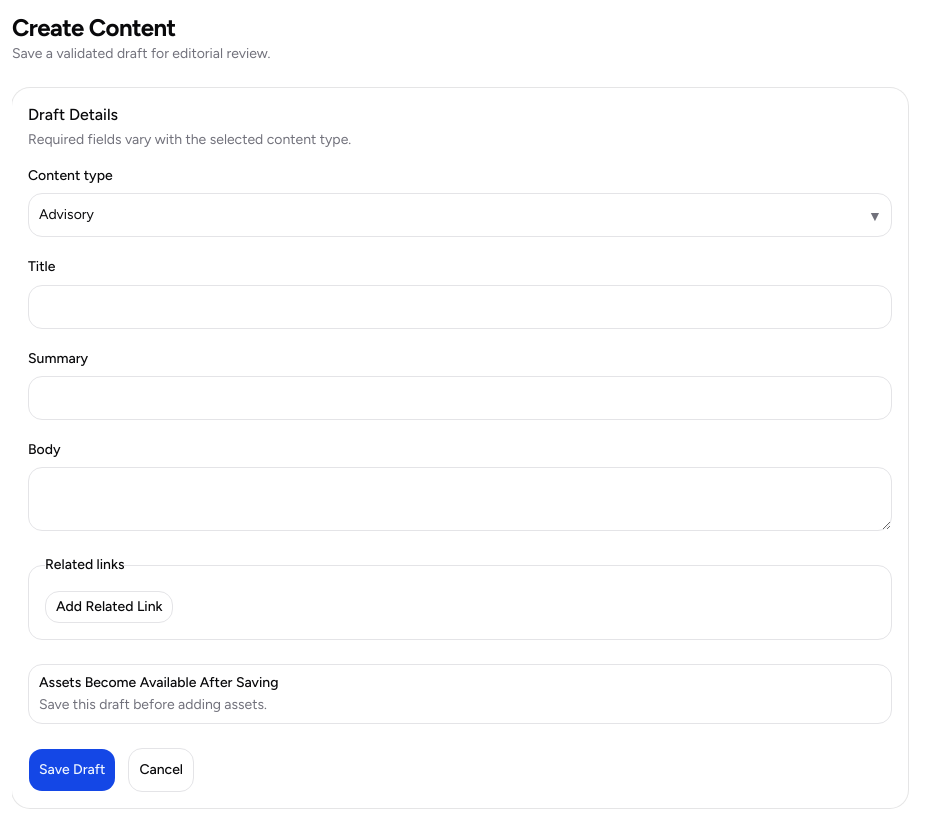
ContentFormView › focuses the first invalid field and exposes understandable alerts
Click the button "Save Draft": (72, 770) 28,748 -> 116,792
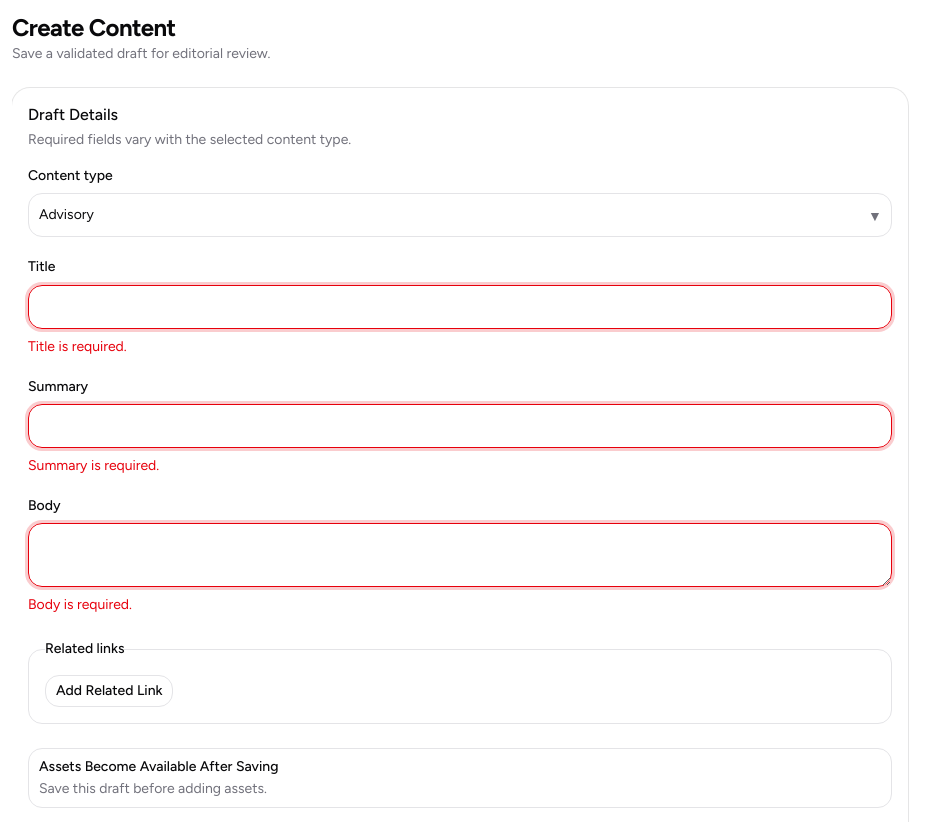
Check: the message "Title is required." is shown, box 28,338 -> 127,354
